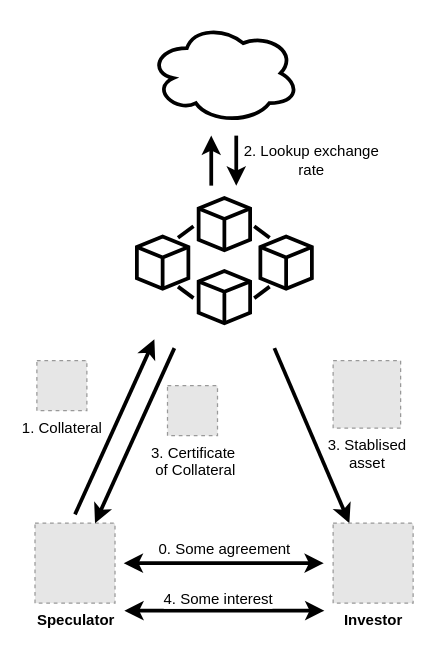
The diagram is 435 pixels wide and 651 high, and some of its shapes have lost their labels. Grey dashed boxes stand in for pictures. The shapes that lost their labels are listed below. From the top down, each one's box as (x1, y1, x2, y2) in pixels, then its label:
(147, 21, 301, 124): Oracle
(196, 268, 251, 324): Blockchain
